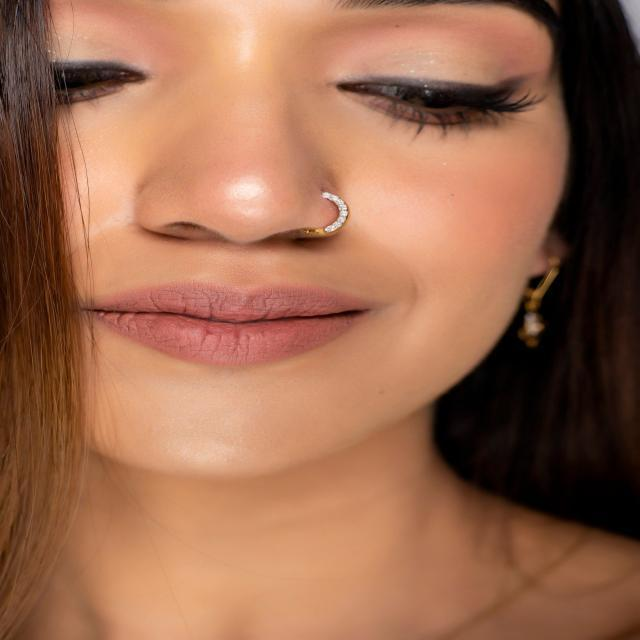Earring: (518, 239, 568, 359)
